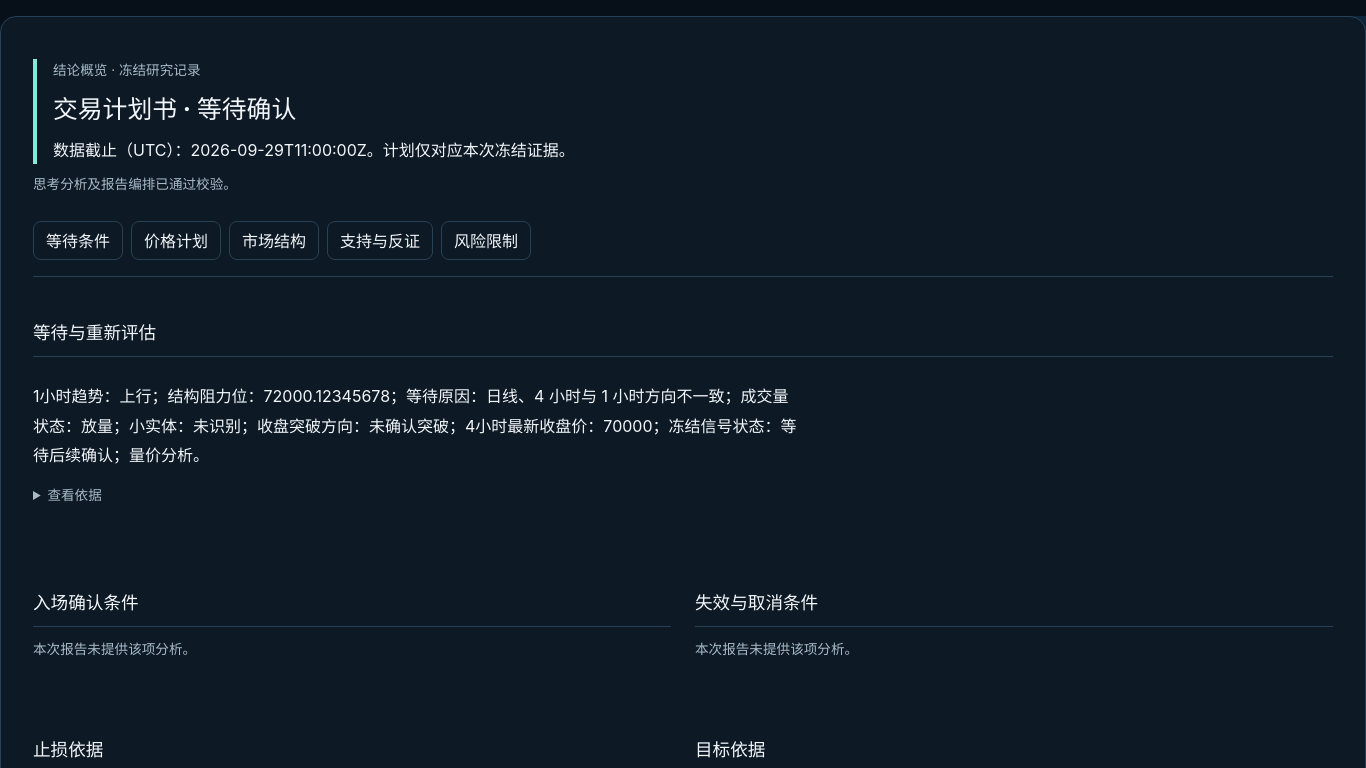
Test: technical plan reading view › localizes saved claims and references without changing precise prices or the stored report
Expected: the element "等待与重新评估" shows "1小时趋势：上行", [33,386,796,465]
Expected: the element "等待与重新评估" shows "结构阻力位：72000.12345678", [33,386,796,465]
Click the heading "查看依据": coordinates (75, 495) [47,487,102,503]
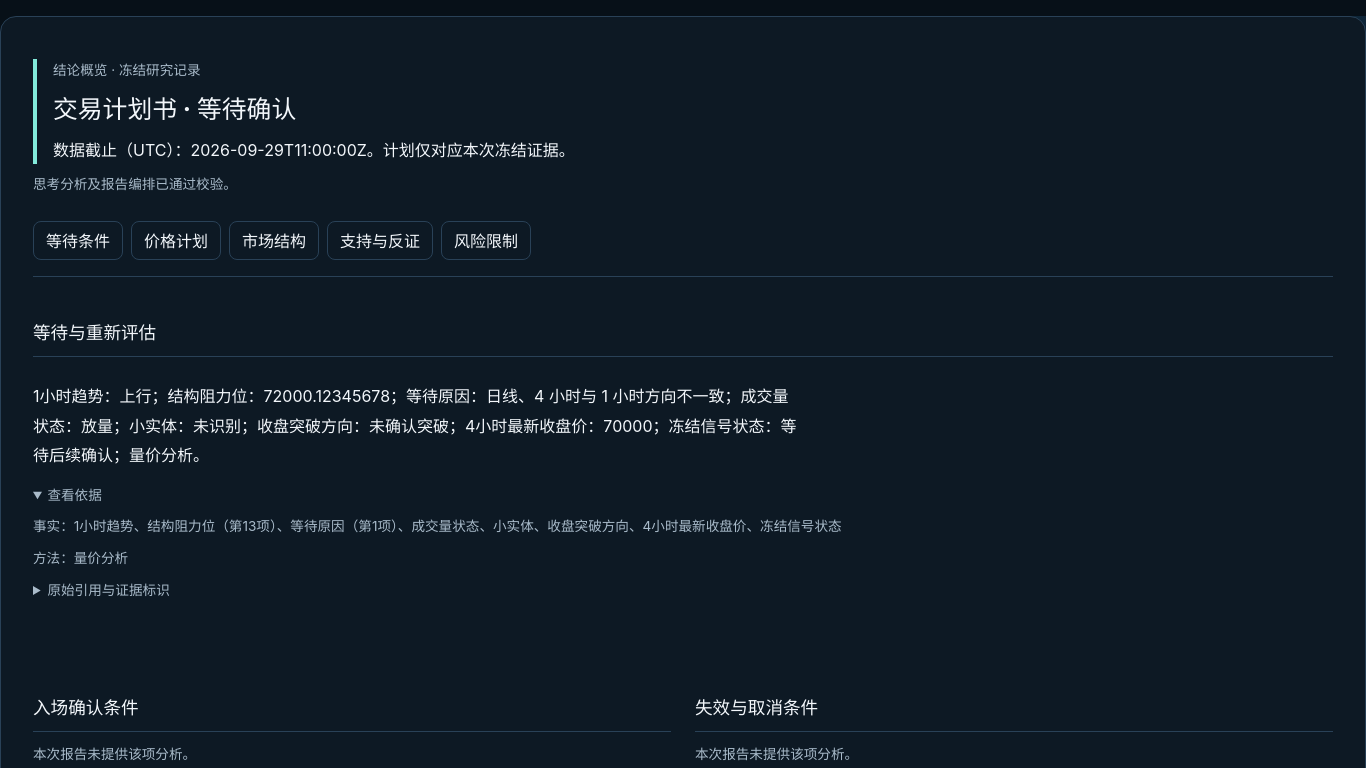
Expected: the text "结构阻力位（第13项）" is shown, [74,518,842,534]
Click the heading "原始引用与证据标识": coordinates (109, 590) [47,582,170,598]
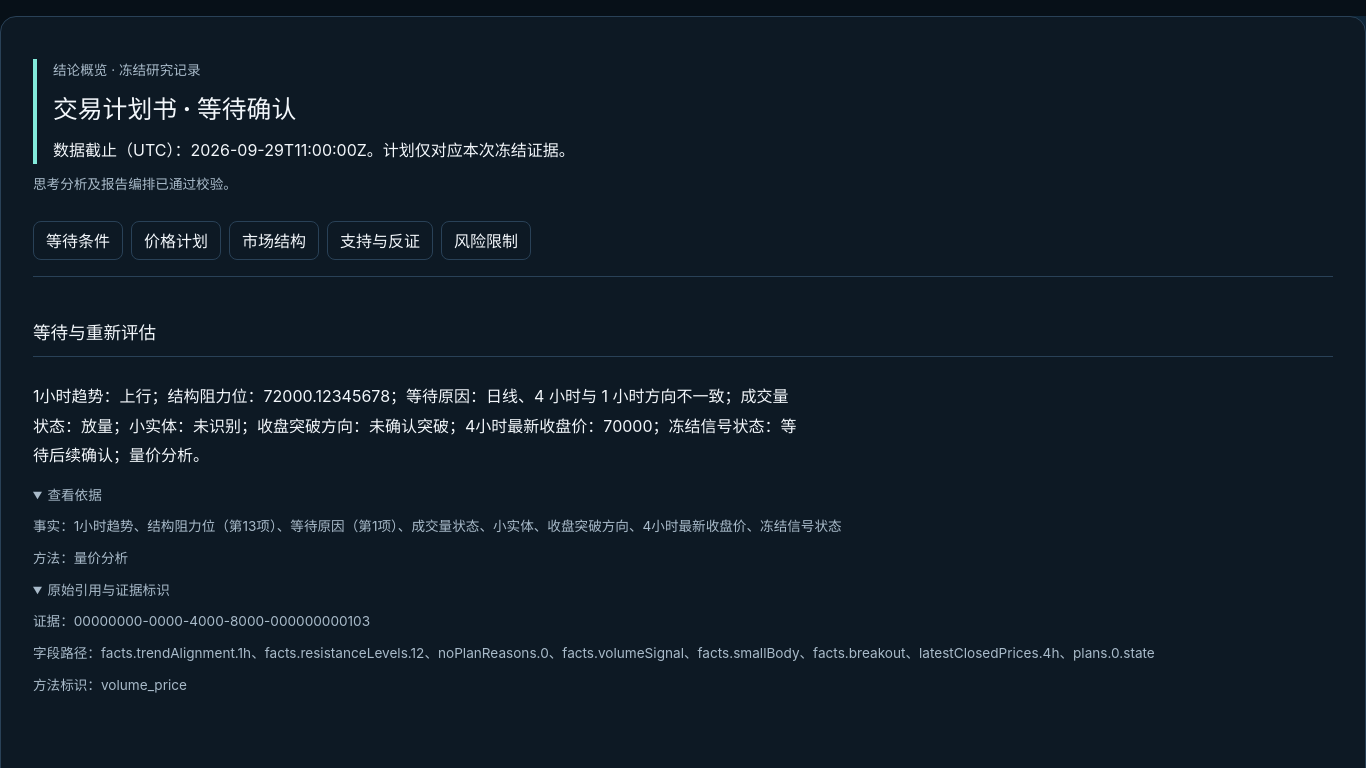
Expected: the text "facts.resistanceLevels.12" is shown, [101,645,1155,661]
